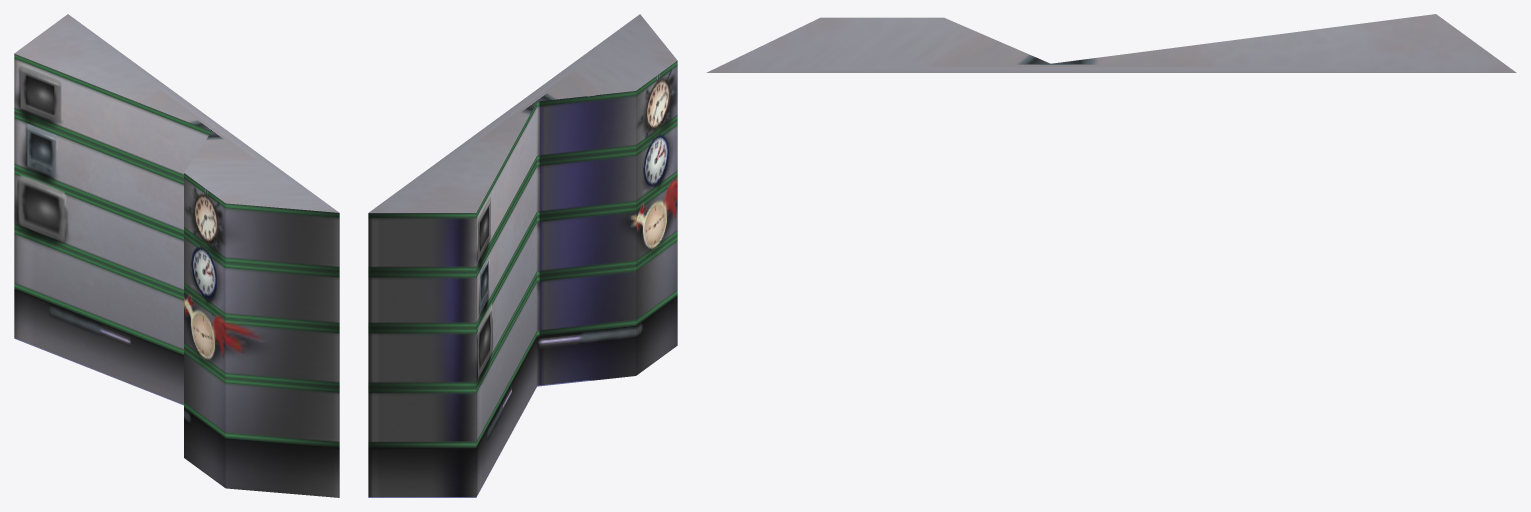
The model's file is comp.glb.
3 renders of one model, left to right at view 1: azimuth 30°, elevation 25°; view 2: azimuth 150°, elevation 25°; view 3: azimuth 270°, elevation 25°, orthographic. The views are drawn at different scales.
Parts seen in each view (by area): view 1: comp; view 2: comp; view 3: comp.
Part boxes in pixels (x1,y1,x2,y2): comp: [14, 14, 339, 497]; comp: [368, 14, 677, 497]; comp: [706, 14, 1516, 72].
Size of the model in its own units: 121 by 407 by 704.
Materials: 1 (1 with a texture image).
